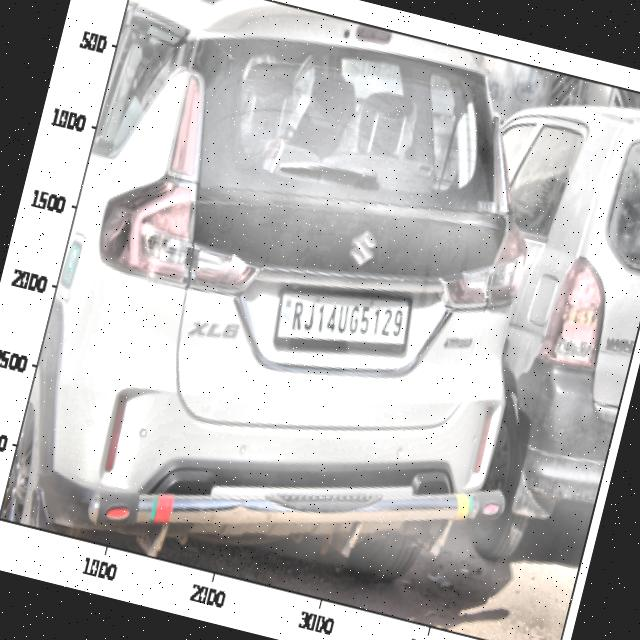license_plate: (282, 277, 411, 360)
